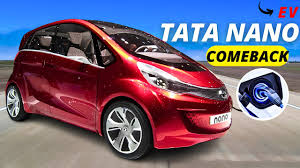Nano: (5, 19, 232, 159)
